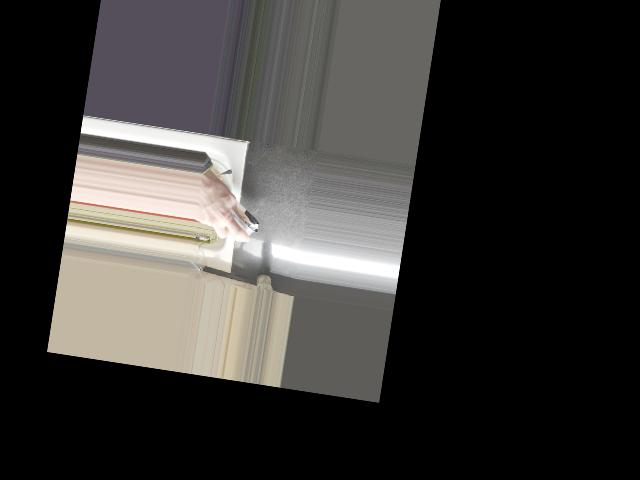cheese: (196, 186, 266, 242)
